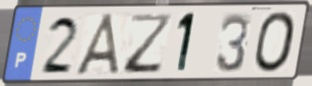1: (173, 11, 198, 76)
2: (37, 15, 82, 75)
3: (216, 11, 250, 75)
A: (73, 11, 124, 77)
O: (253, 10, 299, 75)
Z: (122, 12, 175, 76)
